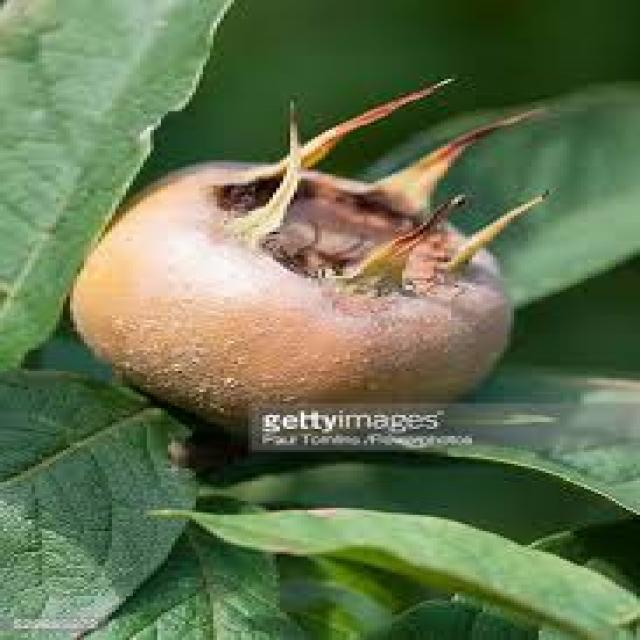organic waste: (63, 74, 563, 441)
